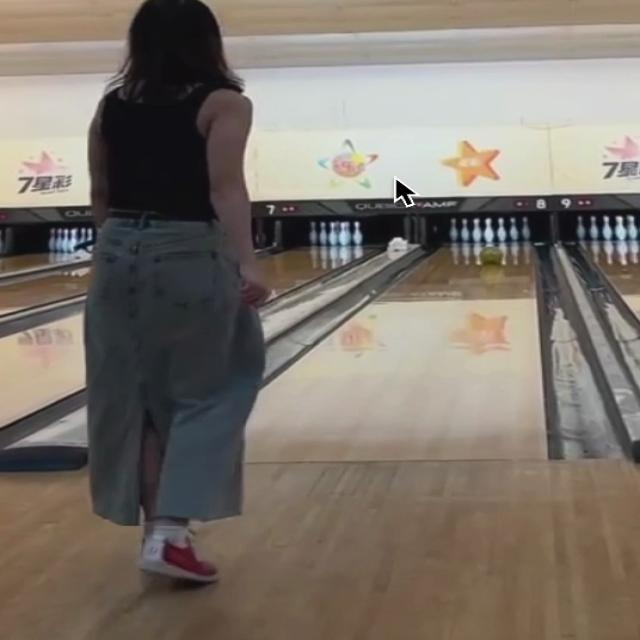alley: (248, 242, 543, 461)
balls: (478, 247, 501, 266)
bottle: (449, 217, 528, 246)
